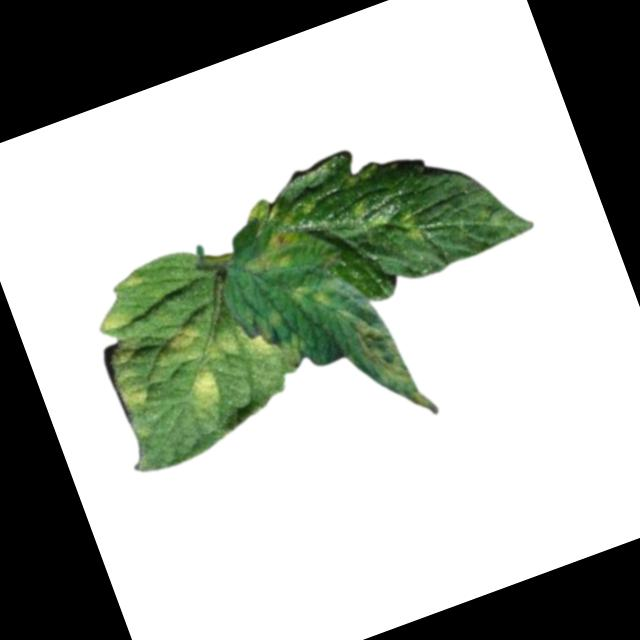Leaf_Mold: (236, 226, 308, 283), (211, 313, 275, 371), (173, 357, 228, 423), (151, 319, 211, 371), (240, 192, 287, 236), (115, 375, 157, 418), (285, 277, 329, 317), (96, 303, 136, 339), (395, 207, 426, 246)
